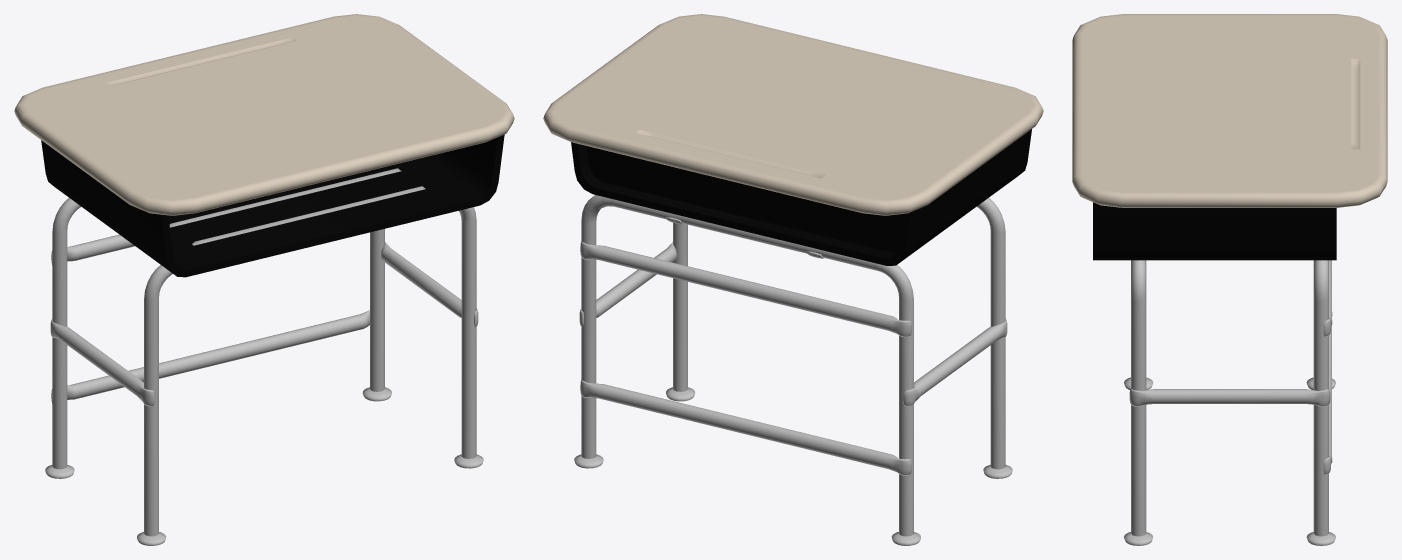
The model's file is doodad_deskStudent_v00_SimpleColors.fbx.
The picture shows the model from 3 angles, left to right: view 1: azimuth 30°, elevation 25°; view 2: azimuth 150°, elevation 25°; view 3: azimuth 270°, elevation 25°; orthographic projection.
Parts seen in each view (by area): view 1: polySurface19; view 2: polySurface19; view 3: polySurface19.
Boxes of the visible parts, left/top/right/bottom form: polySurface19: left=14, top=14, right=514, bottom=545; polySurface19: left=543, top=14, right=1043, bottom=545; polySurface19: left=1072, top=14, right=1387, bottom=545.
Bounding box in the file's own units: 2.87 × 2.6 × 2.07.
